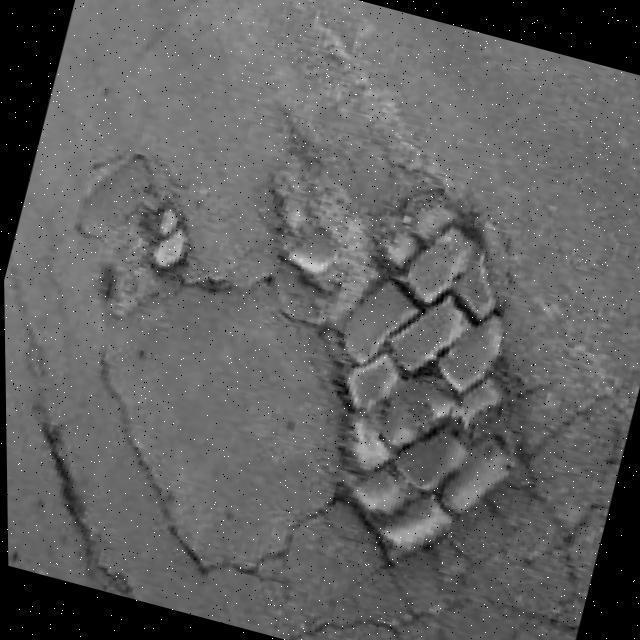Pothole: (296, 207, 532, 563), (138, 200, 192, 276)
